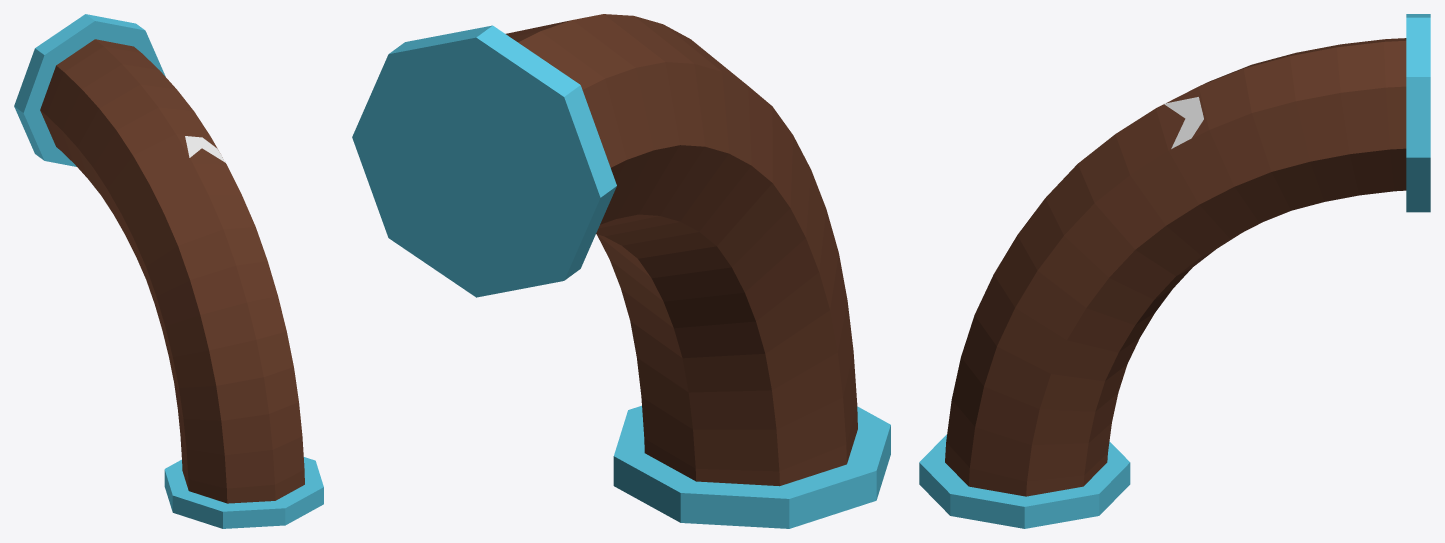
File: PipeCurved_Broken.fbx
3 views of the same model, side by side, from view 1: azimuth 30°, elevation 25°; view 2: azimuth 150°, elevation 25°; view 3: azimuth 270°, elevation 25° (orthographic). The views are drawn at different scales.
Parts seen in each view (by area): view 1: PipeCurved, BreachMesh; view 2: PipeCurved; view 3: PipeCurved, BreachMesh.
Part boxes in pixels (x1,y1,x2,y2): PipeCurved: (14, 14, 323, 528); BreachMesh: (185, 136, 225, 162); PipeCurved: (352, 14, 890, 528); PipeCurved: (919, 14, 1430, 528); BreachMesh: (1164, 97, 1203, 148).
Size of the model in its own units: 26 by 63.48 by 63.03.
